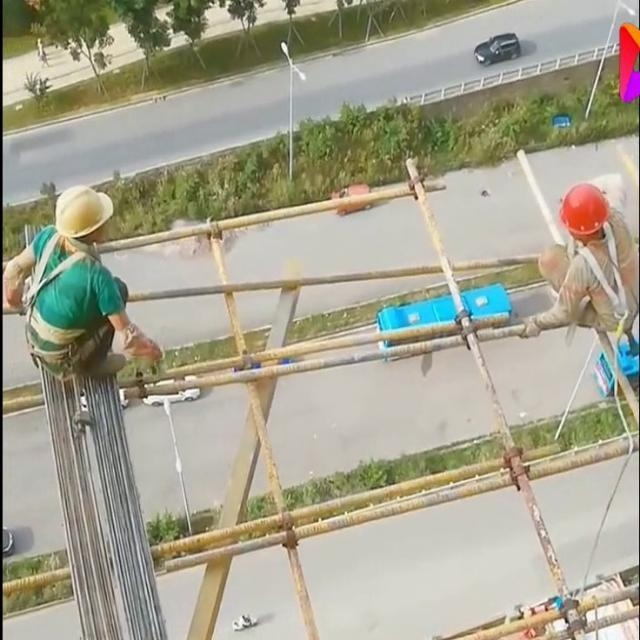Arnes_seguridad: (15, 222, 103, 331), (568, 216, 634, 342)
